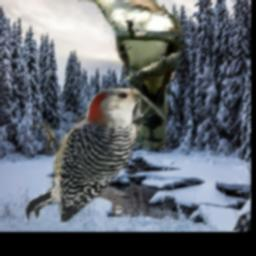Cuckoo: (79, 0, 186, 149)
Woodpecker: (25, 85, 166, 223)
